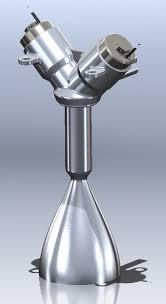thruster: (38, 141, 122, 286)
